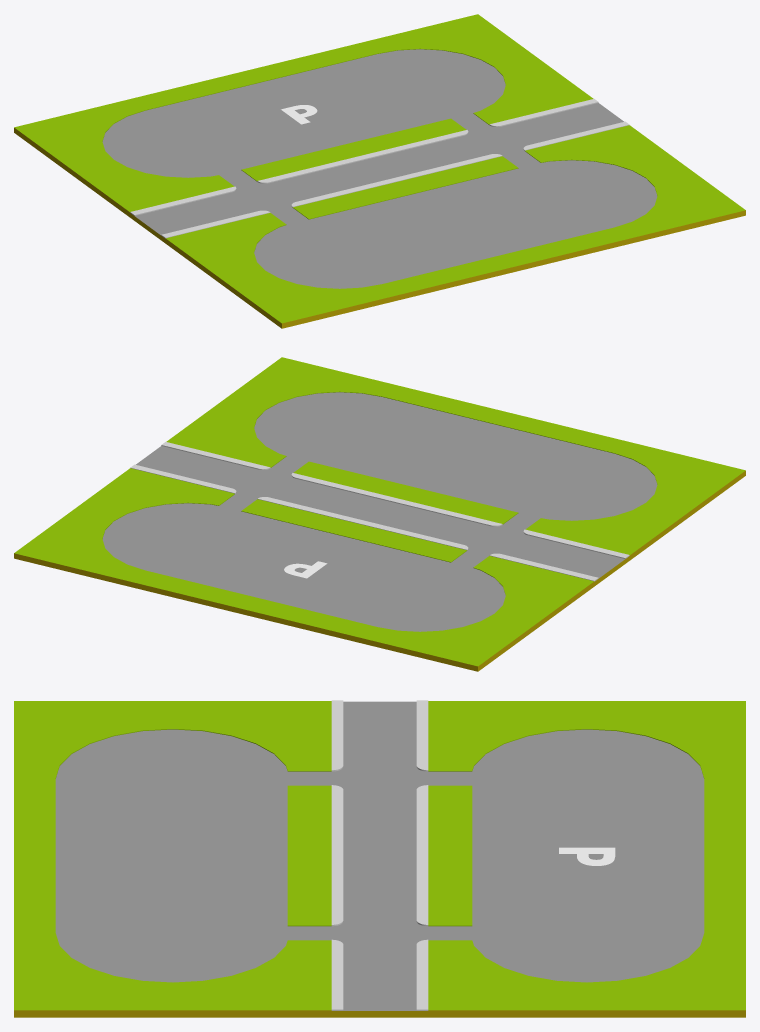
3 views of the same model, one above another, from view 1: azimuth 30°, elevation 25°; view 2: azimuth 150°, elevation 25°; view 3: azimuth 270°, elevation 25° (orthographic). The views are drawn at different scales.
Parts seen in each view (by area): view 1: 1; view 2: 1; view 3: 1.
Part boxes in pixels (box(x1,y1,x2,y2)): 1: box(14, 14, 745, 328); 1: box(14, 357, 745, 671); 1: box(14, 700, 745, 1017).
Bounding box in the file's own units: 5000 × 60 × 5000.
